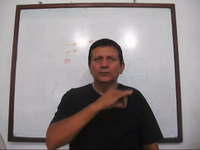oi: (94, 86, 135, 112)
